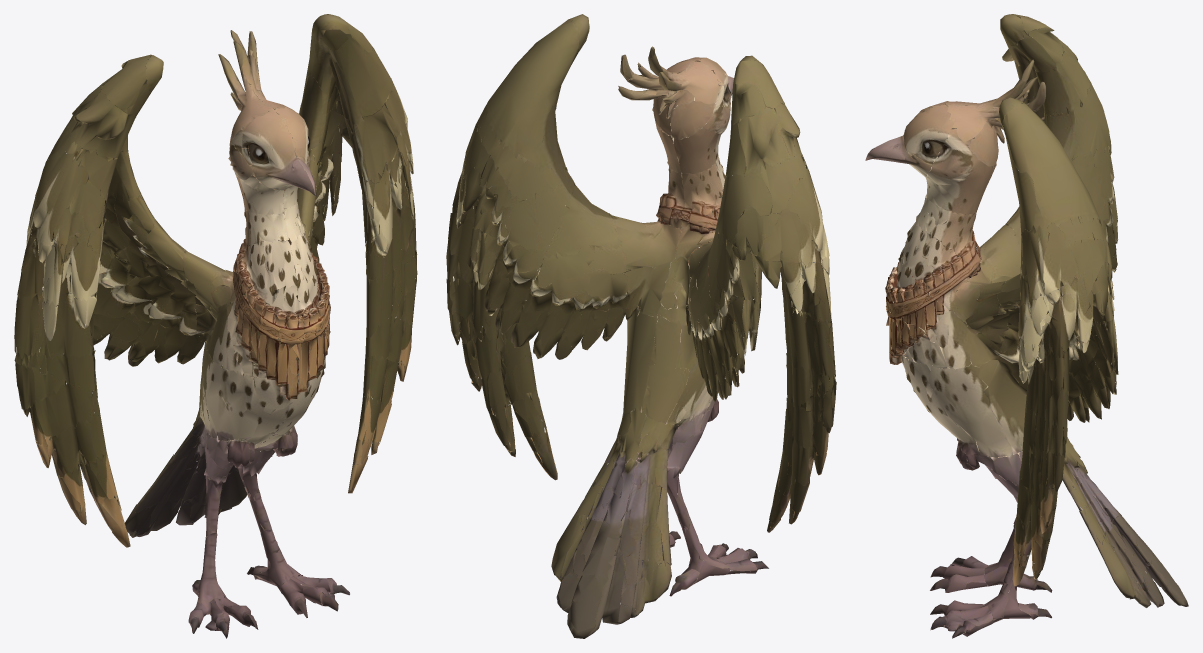
The picture shows the model from 3 angles, left to right: view 1: azimuth 30°, elevation 25°; view 2: azimuth 150°, elevation 25°; view 3: azimuth 270°, elevation 25°; orthographic projection. The views are drawn at different scales.
Visible parts, largest first — view 1: Mesh_0; view 2: Mesh_0; view 3: Mesh_0.
Boxes of the visible parts, x1=… form: Mesh_0: x1=14, y1=14, x2=417, y2=638; Mesh_0: x1=446, y1=14, x2=836, y2=638; Mesh_0: x1=865, y1=14, x2=1188, y2=638.
Bounding box in the file's own units: 1.43 × 1.9 × 1.02.
Materials: 1 (1 with a texture image).
